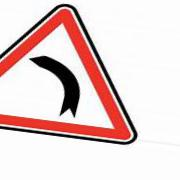left: (1, 2, 137, 145)
